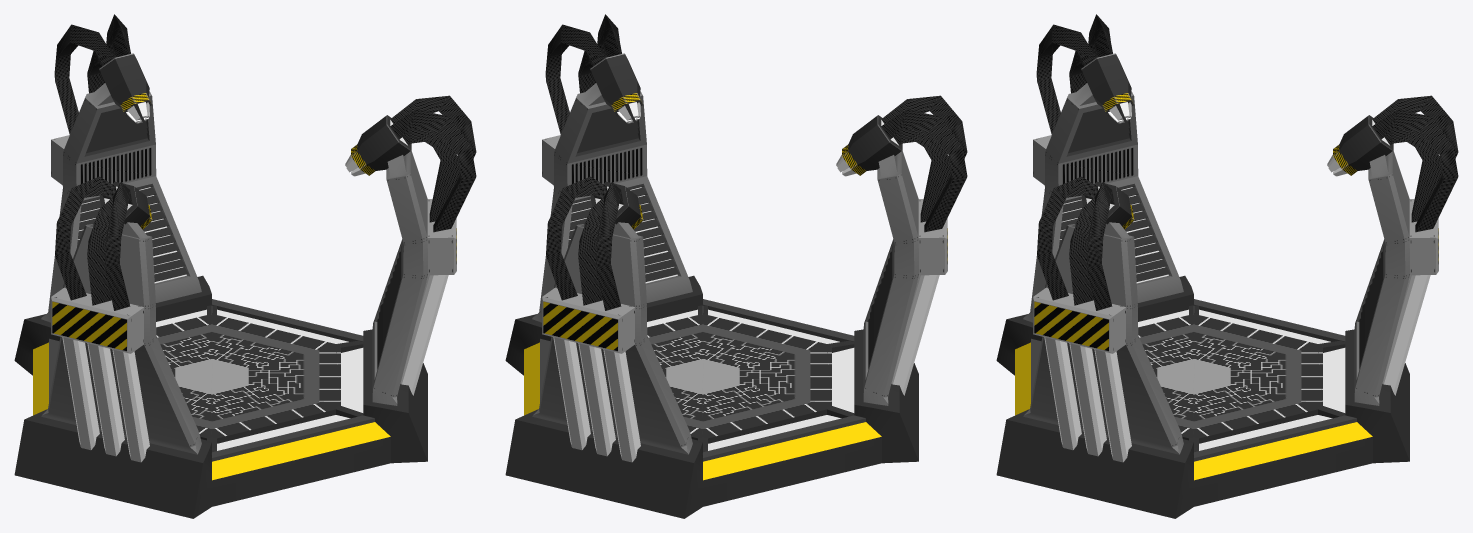
Rendered from Teleporter_model.fbx.
3 renders of one model, left to right at view 1: azimuth 30°, elevation 25°; view 2: azimuth 150°, elevation 25°; view 3: azimuth 270°, elevation 25°, orthographic.
Parts seen in each view (by area): view 1: teleporter; view 2: teleporter; view 3: teleporter.
Part boxes in pixels (x1,y1,x2,y2): teleporter: [14, 14, 476, 518]; teleporter: [505, 14, 967, 518]; teleporter: [996, 14, 1458, 518].
Bounding box in the file's own units: 589 × 421 × 559.
Materials: 1 (1 with a texture image).
